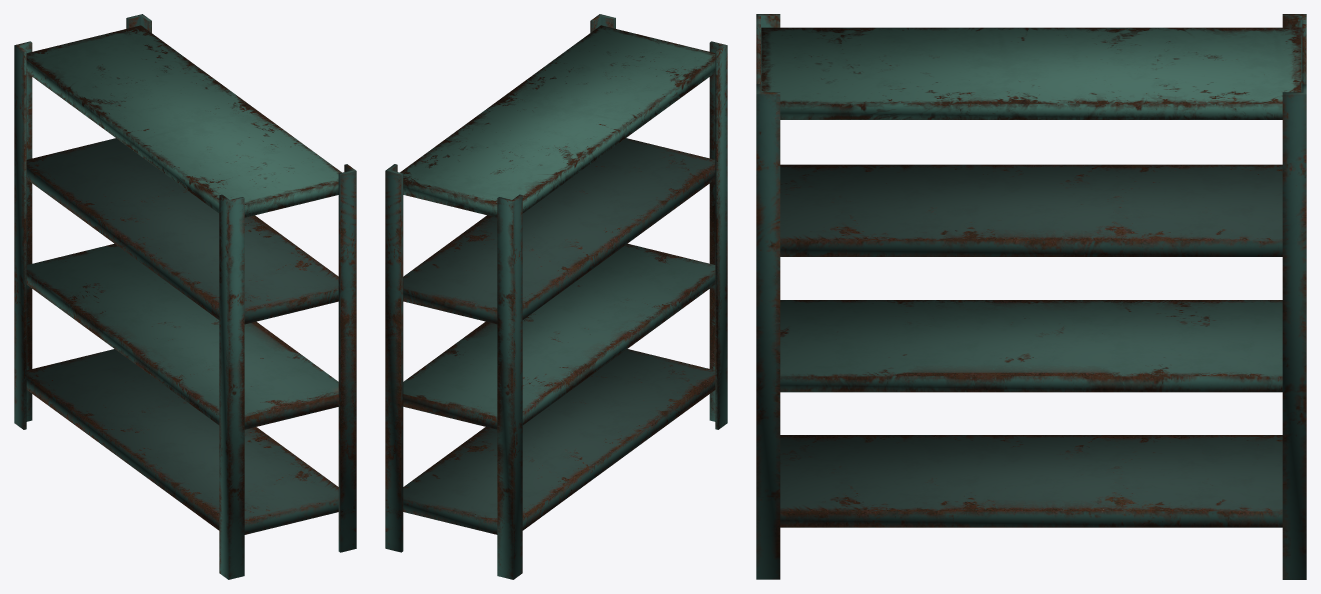
The picture shows the model from 3 angles, left to right: view 1: azimuth 30°, elevation 25°; view 2: azimuth 150°, elevation 25°; view 3: azimuth 270°, elevation 25°; orthographic projection. The views are drawn at different scales.
Visible parts, largest first — view 1: shelf_1_low, shelf_2_low, shelf_3_low, shelf_4_low, leg_2_low, leg_1_low, leg_3_low; view 2: shelf_1_low, shelf_2_low, shelf_3_low, shelf_4_low, leg_3_low, leg_4_low, leg_2_low; view 3: shelf_1_low, shelf_3_low, shelf_2_low, shelf_4_low, leg_4_low, leg_1_low, leg_3_low, leg_2_low.
Boxes of the visible parts, bbox=[...] form: shelf_1_low: bbox=[26, 25, 341, 217]; shelf_2_low: bbox=[26, 138, 338, 324]; shelf_3_low: bbox=[26, 243, 338, 429]; shelf_4_low: bbox=[26, 349, 338, 534]; leg_2_low: bbox=[219, 194, 244, 579]; leg_1_low: bbox=[338, 164, 356, 552]; leg_3_low: bbox=[14, 41, 32, 429]; shelf_1_low: bbox=[400, 25, 715, 217]; shelf_2_low: bbox=[403, 138, 715, 324]; shelf_3_low: bbox=[403, 243, 715, 429]; shelf_4_low: bbox=[403, 349, 715, 534]; leg_3_low: bbox=[497, 194, 522, 579]; leg_4_low: bbox=[385, 164, 403, 552]; leg_2_low: bbox=[709, 41, 727, 429]; shelf_1_low: bbox=[761, 27, 1301, 119]; shelf_3_low: bbox=[780, 300, 1282, 392]; shelf_2_low: bbox=[780, 164, 1282, 256]; shelf_4_low: bbox=[780, 435, 1282, 527]; leg_4_low: bbox=[1282, 84, 1306, 579]; leg_1_low: bbox=[756, 84, 780, 579]; leg_3_low: bbox=[1282, 14, 1306, 92]; leg_2_low: bbox=[756, 14, 780, 91].
Size of the model in its own units: 63.41 by 179 by 184.
1 material, 1 textured.
